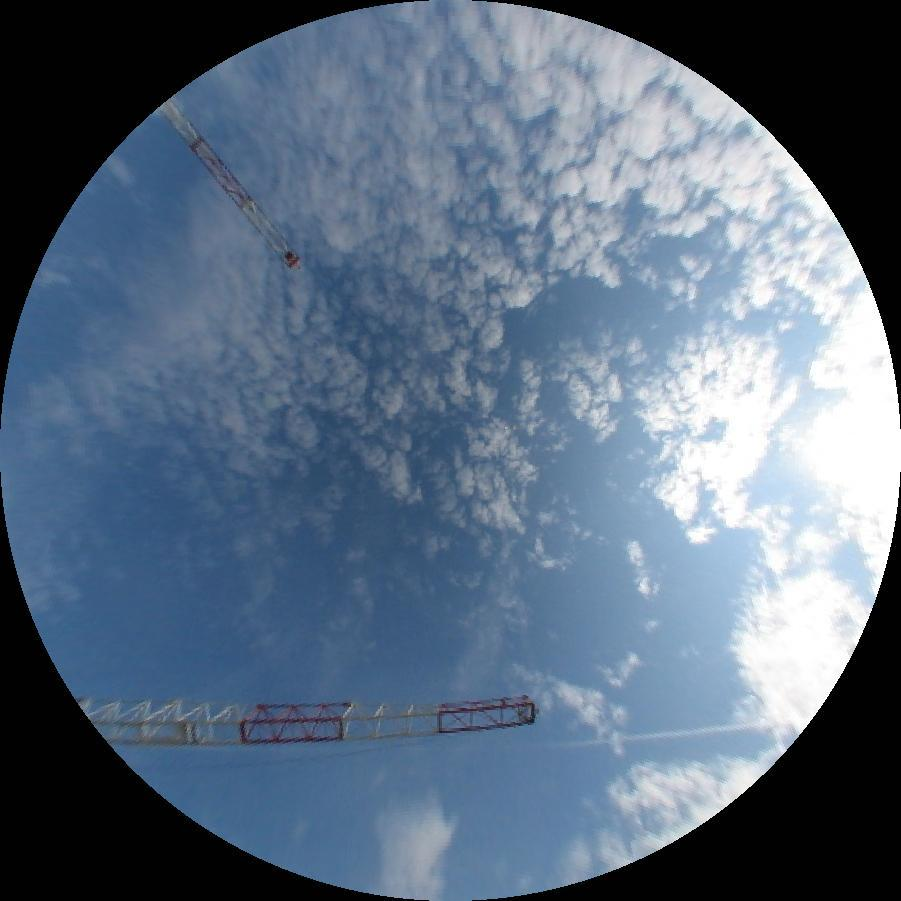contrail young: (533, 721, 772, 751)
